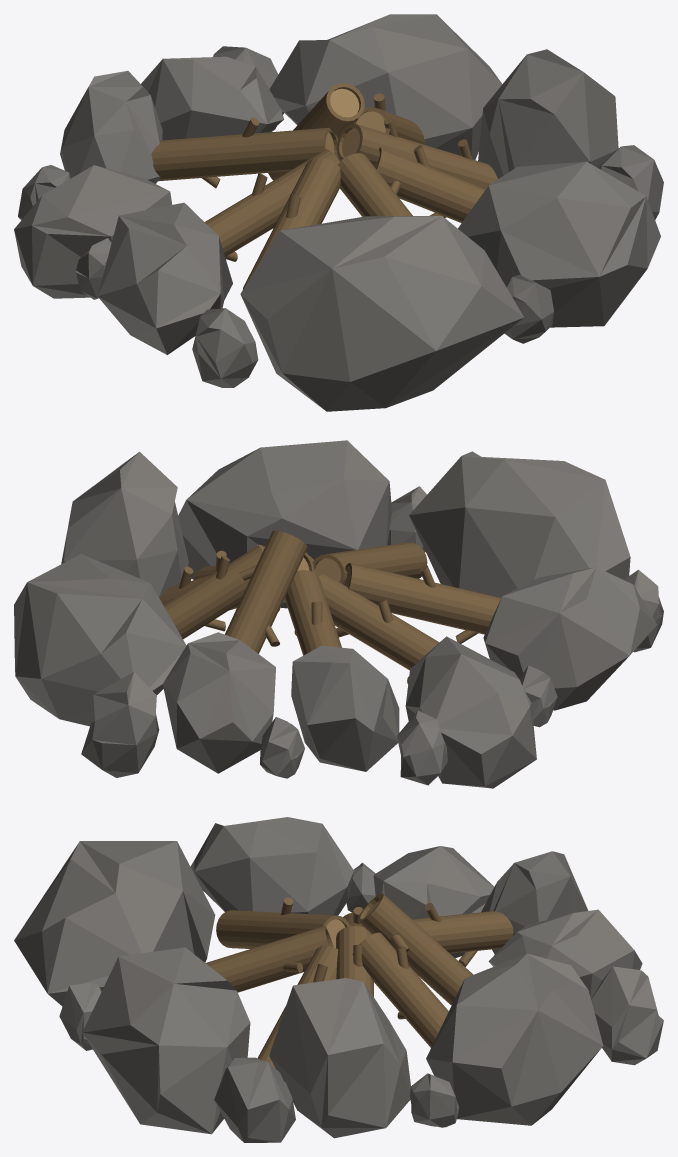
File: Campfire.fbx
3 views of the same model, one above another, from view 1: azimuth 30°, elevation 25°; view 2: azimuth 150°, elevation 25°; view 3: azimuth 270°, elevation 25° (orthographic). The views are drawn at different scales.
Parts seen in each view (by area): view 1: pCylinder1; view 2: pCylinder1; view 3: pCylinder1.
Boxes of the visible parts, <box> form: pCylinder1: <box>14,14,663,411</box>; pCylinder1: <box>14,440,663,788</box>; pCylinder1: <box>14,817,663,1142</box>.
Bounding box in the file's own units: 5.7 × 1.81 × 6.25.
